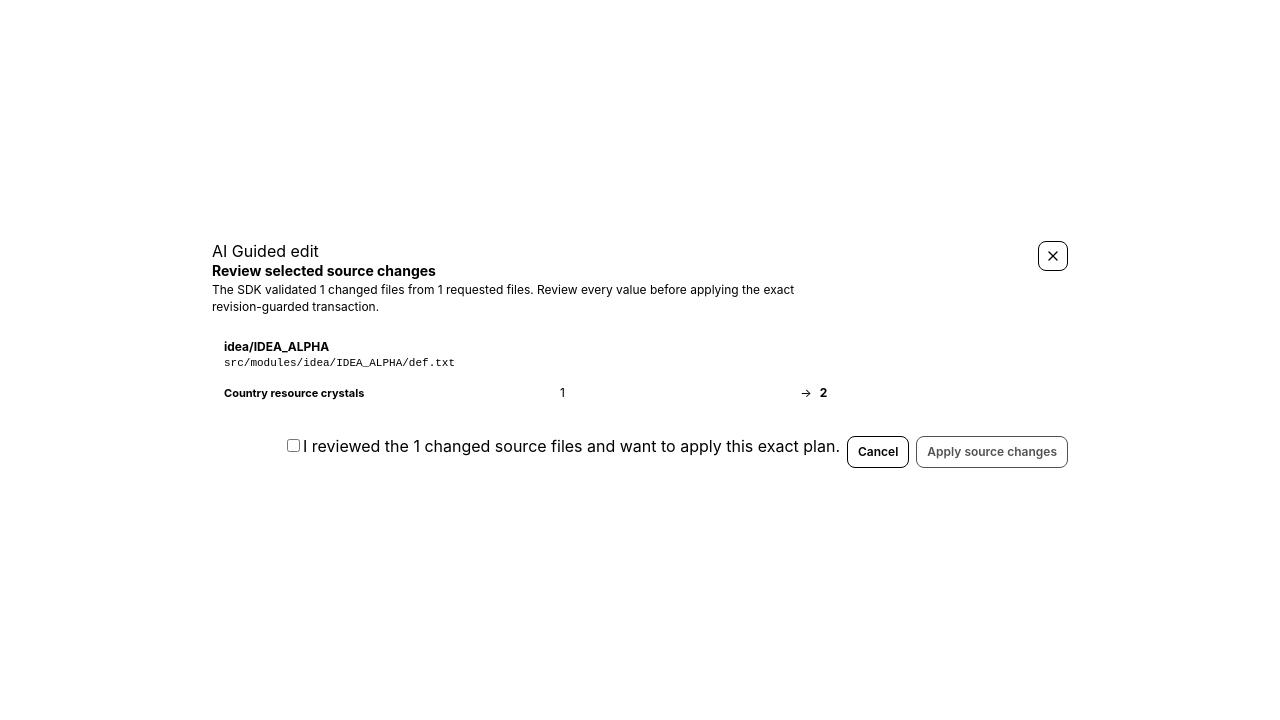
SourceUpdateReviewDialog › keeps the review open and localizes an atomic apply failure
Click the checkbox. click: (294, 445)
box: [287, 438, 300, 452]
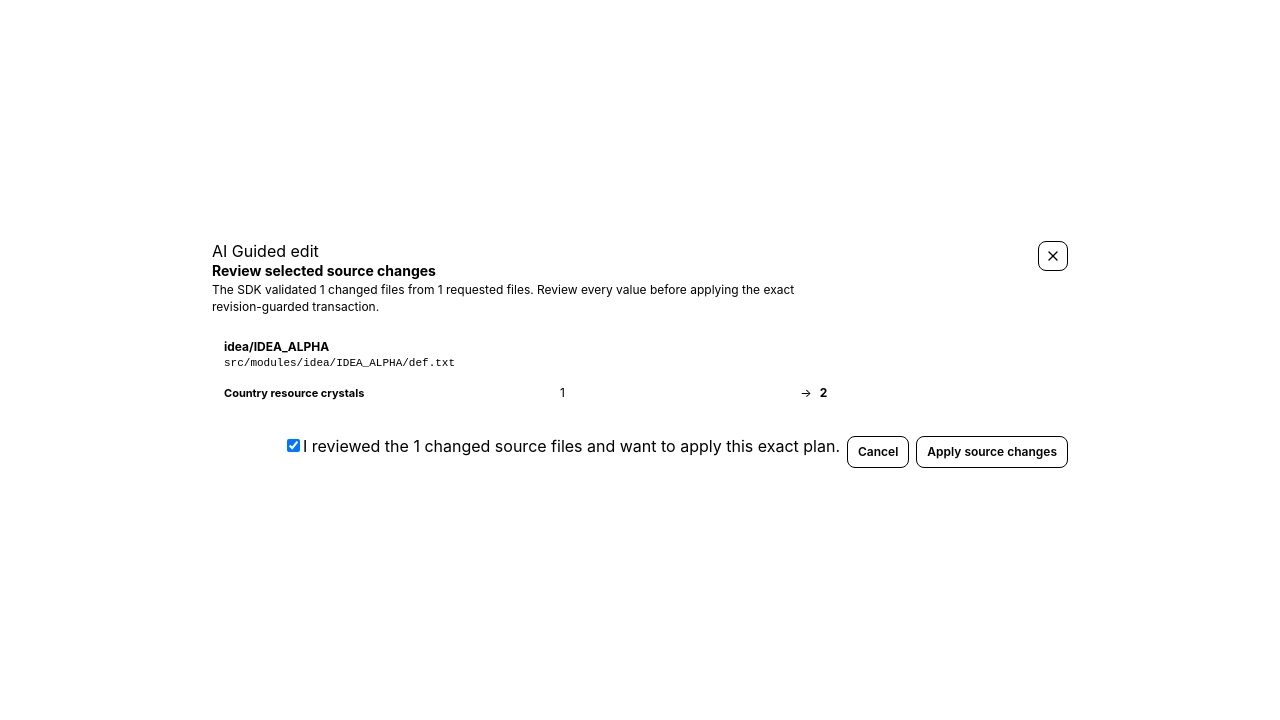
Click the button "Apply source changes". click: (992, 452)
box: [916, 436, 1068, 468]
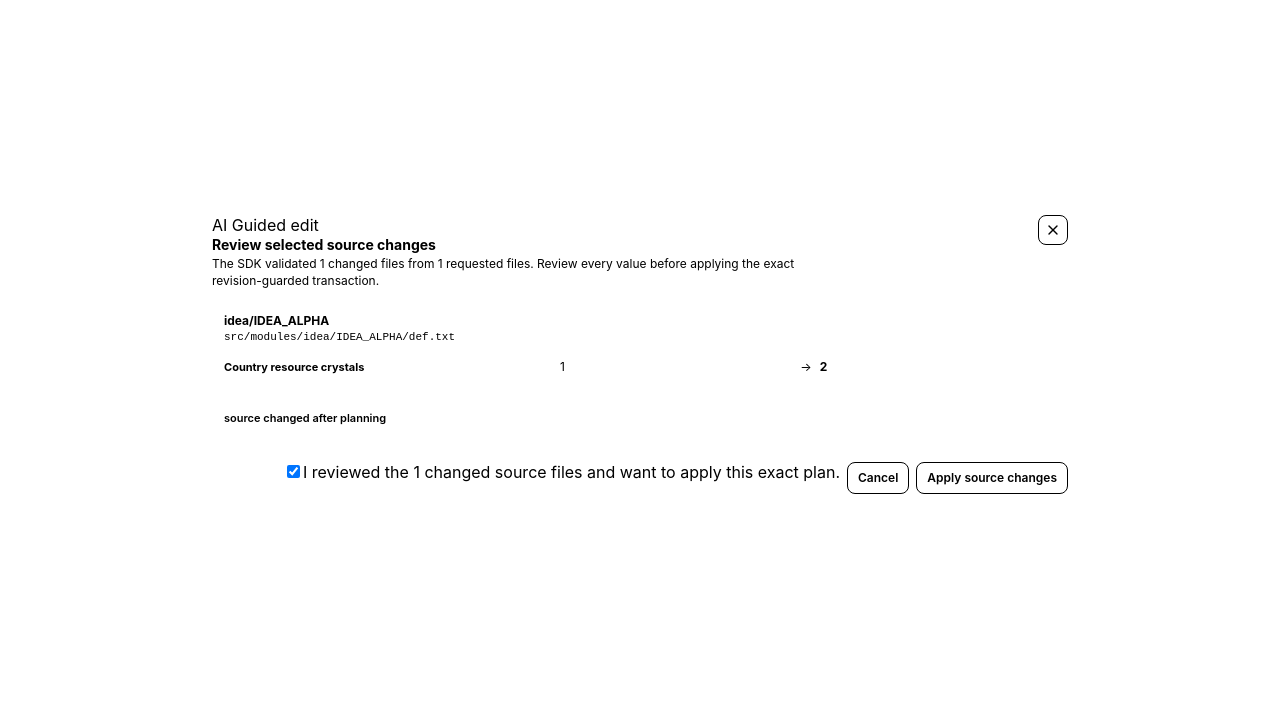
Expected: the dialog is shown, [200, 202, 1080, 518]
Expected: the message "source changed after planning" is shown, [224, 410, 386, 424]
